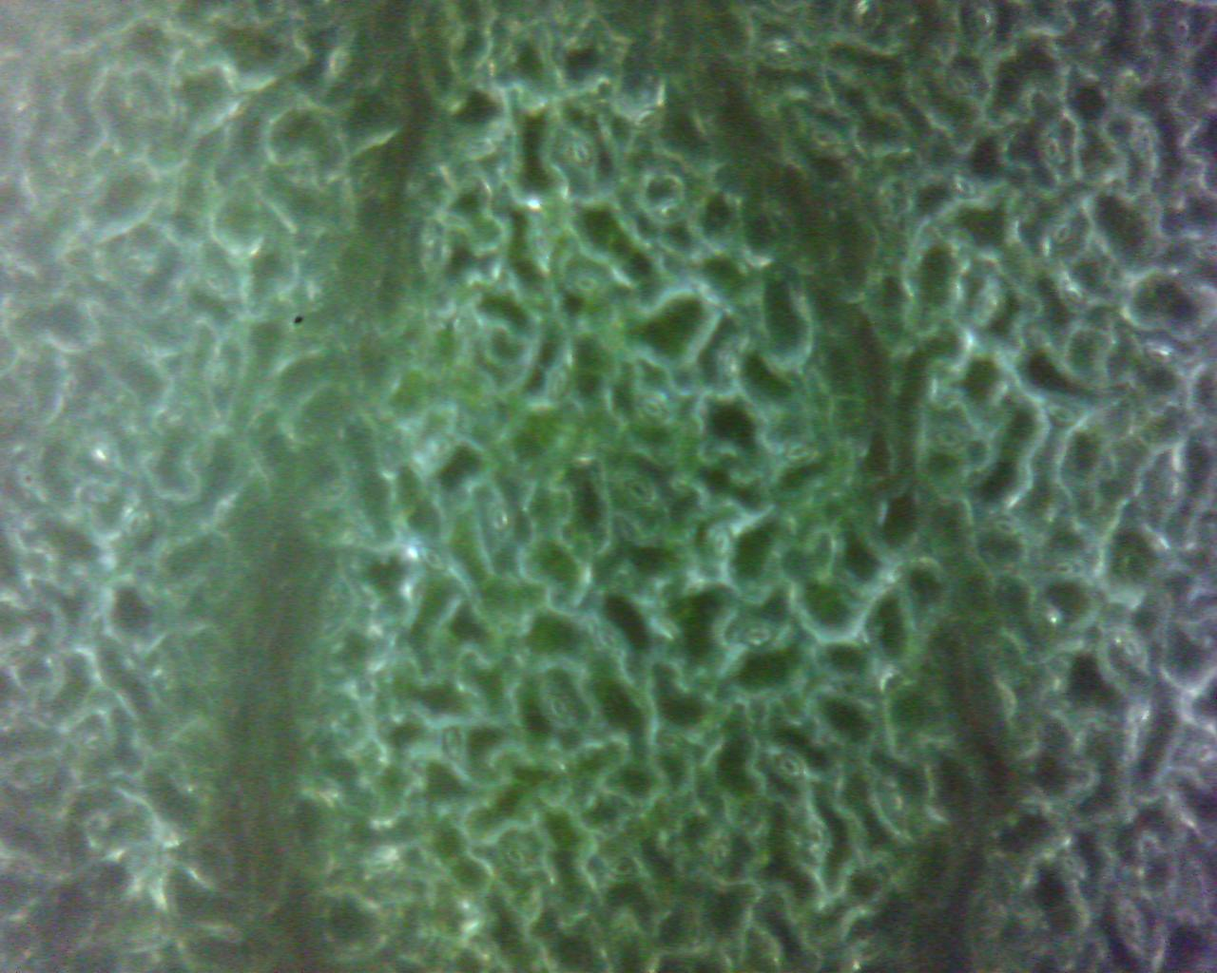stomata: (739, 620, 776, 653), (530, 225, 559, 267), (762, 42, 801, 70), (1045, 402, 1083, 430), (570, 271, 605, 301), (1039, 132, 1068, 168), (1133, 124, 1160, 161), (1121, 908, 1146, 947), (650, 201, 692, 223), (931, 429, 965, 456), (808, 125, 844, 150), (223, 93, 253, 123), (720, 350, 743, 388), (782, 439, 814, 466), (977, 290, 1003, 323), (970, 4, 995, 38), (706, 841, 734, 871), (609, 855, 639, 883), (711, 526, 734, 562), (440, 725, 463, 761), (1144, 345, 1177, 370), (1050, 220, 1075, 253), (638, 397, 669, 423), (1121, 632, 1146, 664), (949, 175, 981, 200), (551, 366, 573, 402), (206, 361, 232, 391), (123, 510, 149, 540), (488, 506, 513, 536), (883, 555, 906, 587), (570, 140, 595, 169), (1057, 851, 1083, 878), (595, 626, 620, 654), (418, 547, 447, 571), (655, 730, 688, 751), (948, 71, 974, 96), (991, 515, 1019, 538), (632, 109, 664, 129), (628, 482, 653, 507), (777, 756, 804, 779), (550, 696, 572, 724), (1063, 282, 1084, 310), (501, 848, 530, 868), (203, 272, 227, 296), (1051, 556, 1078, 576)
